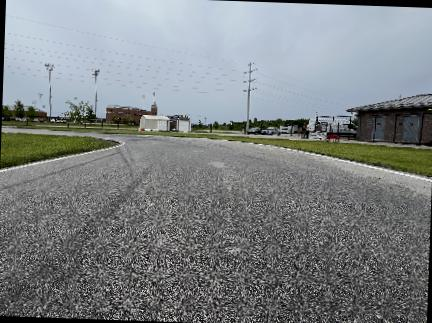Grass: (85, 130, 431, 176), (0, 133, 113, 167)
Lane: (0, 133, 431, 322)
